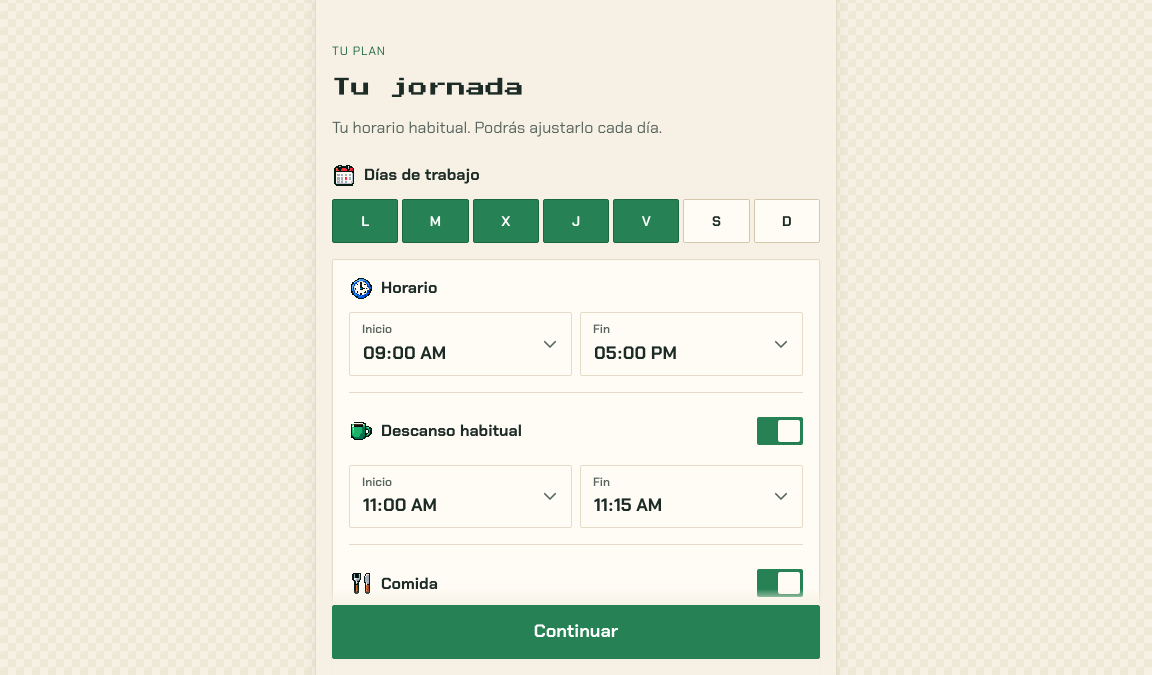
onboarding: workday › keeps a cleared time empty without losing the other one
Clear the 2nd time field labelled "Inicio" at (446, 505), box left=362, top=491, right=529, bottom=519
(page scrolled)
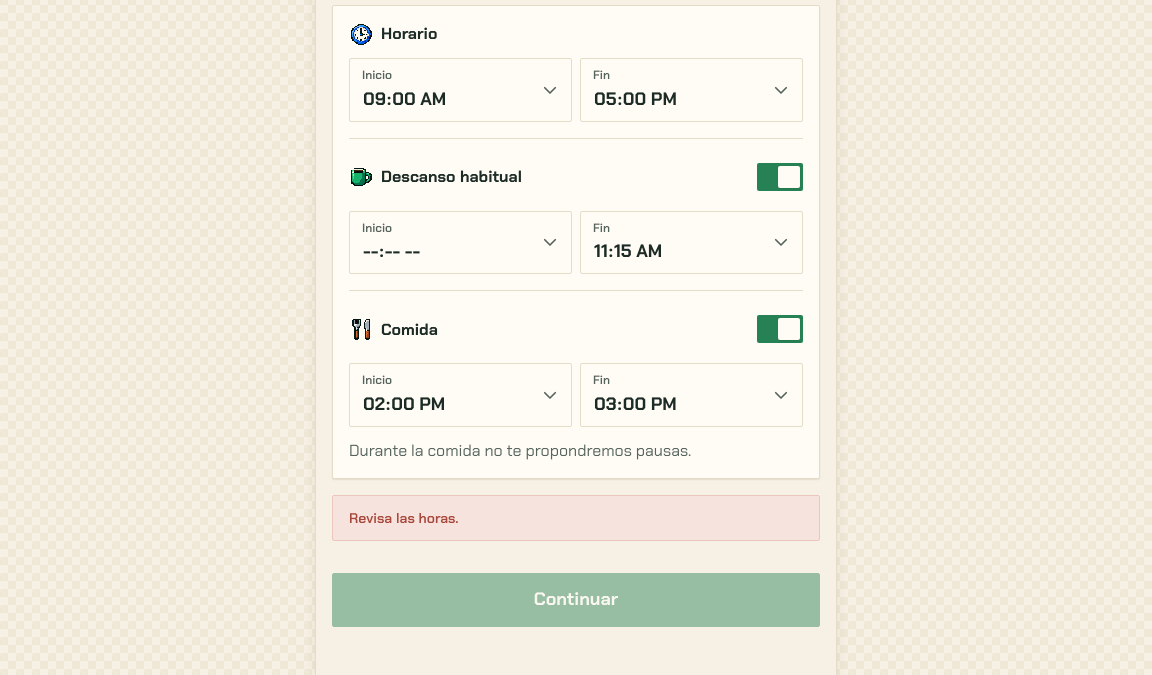
Expected: the 2nd time field labelled "Fin" holds "11:15", left=593, top=237, right=760, bottom=265
Result: the message reads "Revisa las horas." at left=349, top=509, right=459, bottom=527
